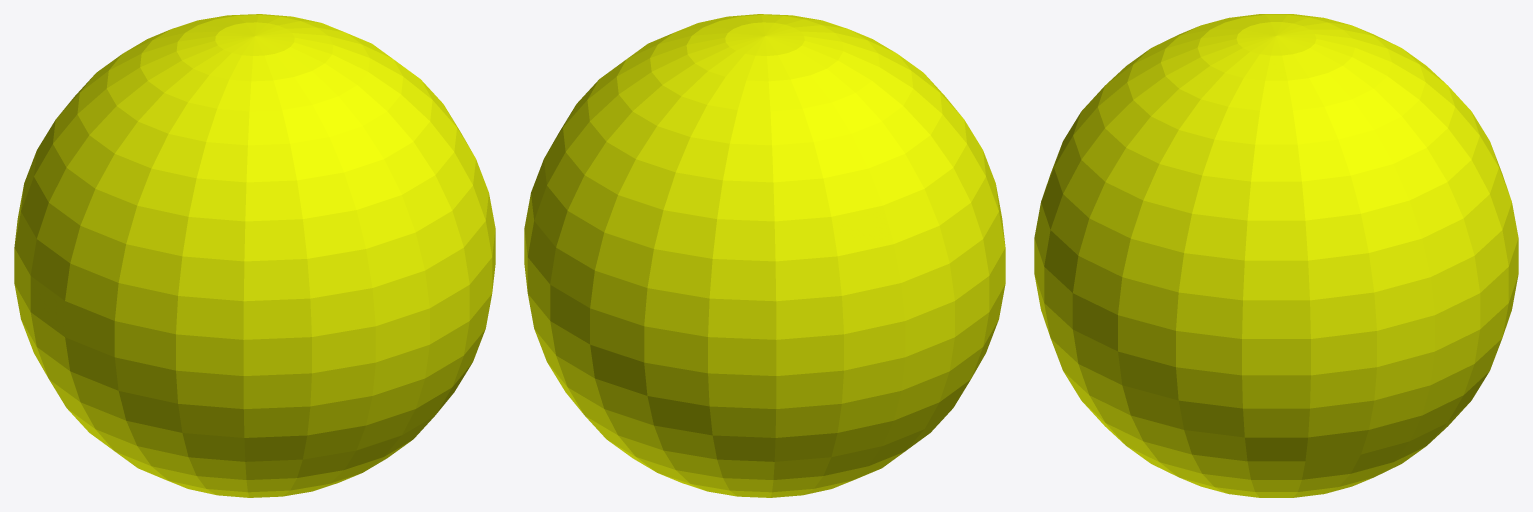
The model's file is pineappleblender.glb.
3 views of the same model, side by side, from view 1: azimuth 30°, elevation 25°; view 2: azimuth 150°, elevation 25°; view 3: azimuth 270°, elevation 25° (orthographic).
Parts seen in each view (by area): view 1: Sphere; view 2: Sphere; view 3: Sphere.
Boxes of the visible parts, x1=… form: Sphere: x1=14, y1=14, x2=495, y2=497; Sphere: x1=524, y1=14, x2=1005, y2=497; Sphere: x1=1034, y1=14, x2=1518, y2=497.
Size of the model in its own units: 4.87 by 4.94 by 4.92.
